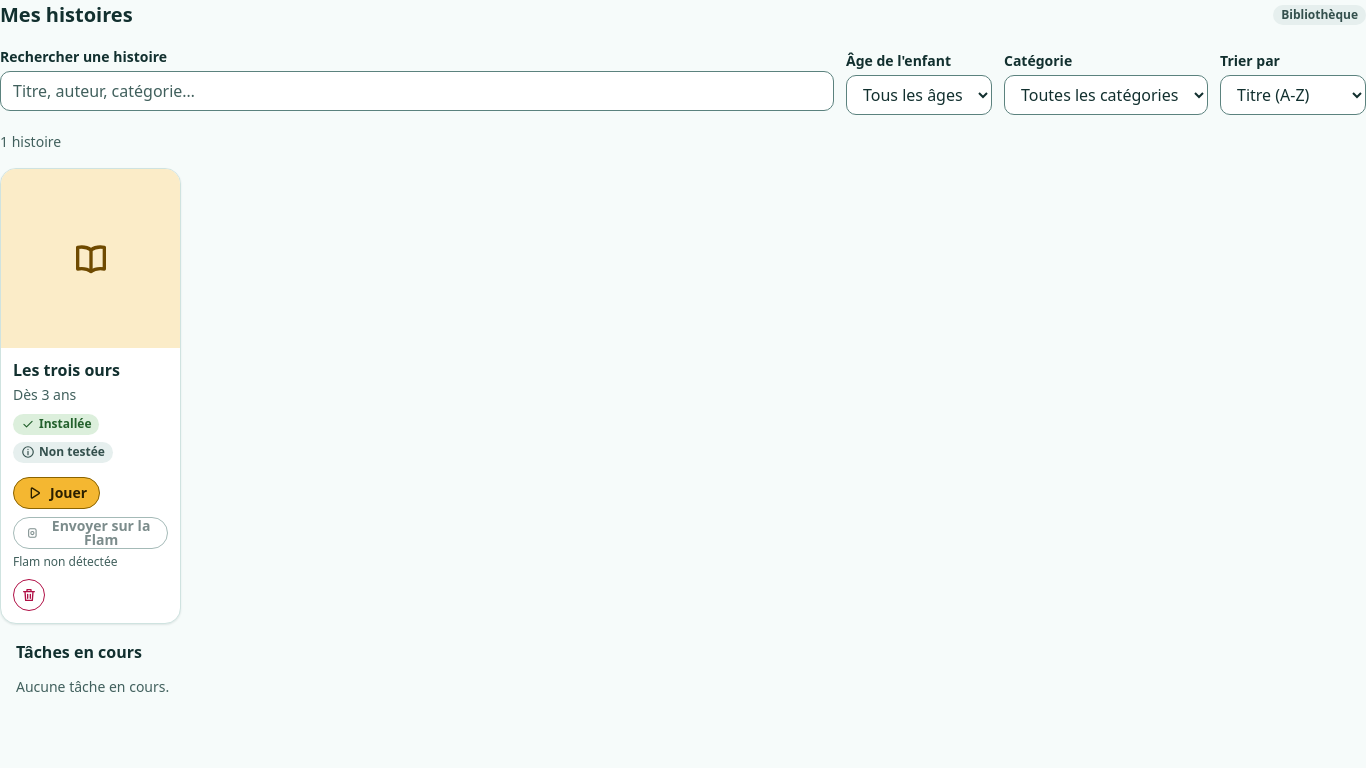
it: « Mes histoires » liste les histoires installées : jouer et supprimer
Check: the text "Installée" is shown, box [13, 414, 100, 435]
Click the button "Les trois ours" at x=66, y=370, box [13, 360, 120, 380]
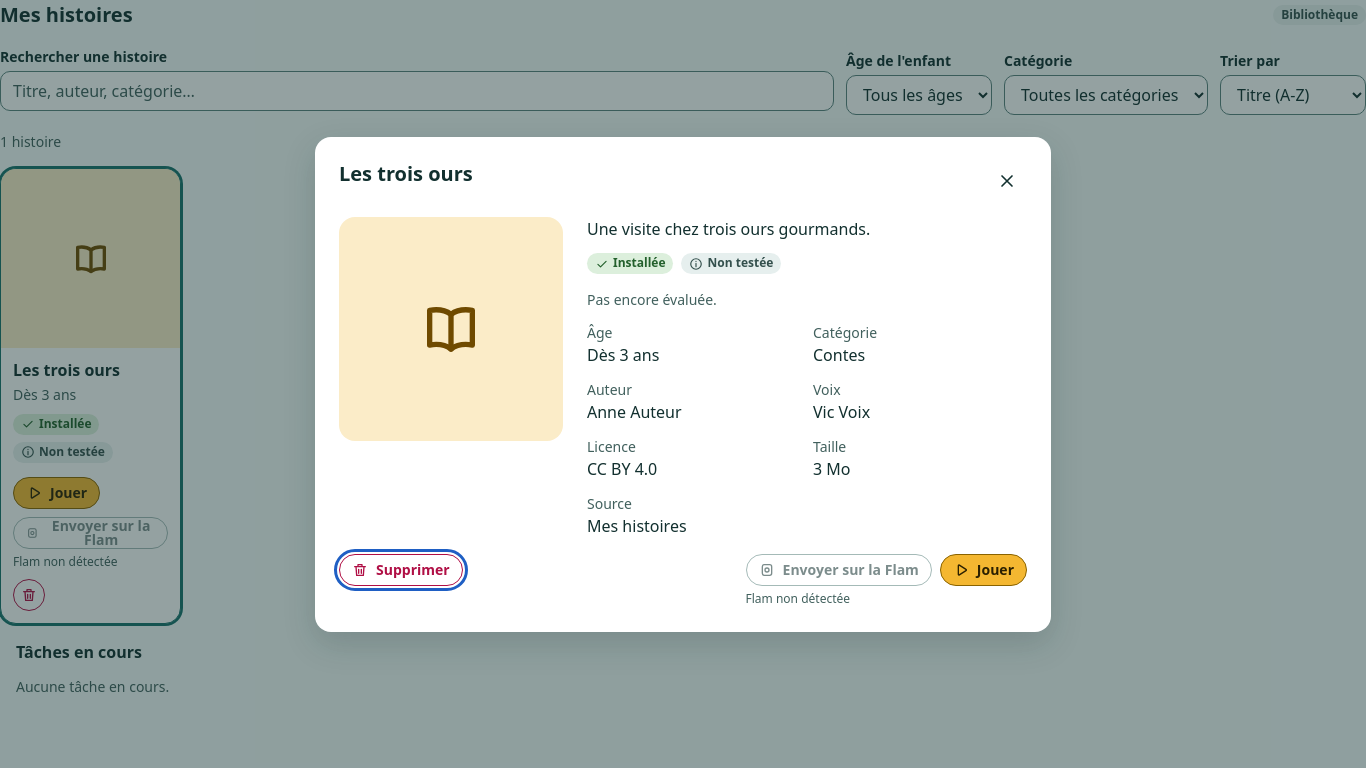
Click the button "Supprimer" at x=401, y=570, box [339, 554, 463, 586]
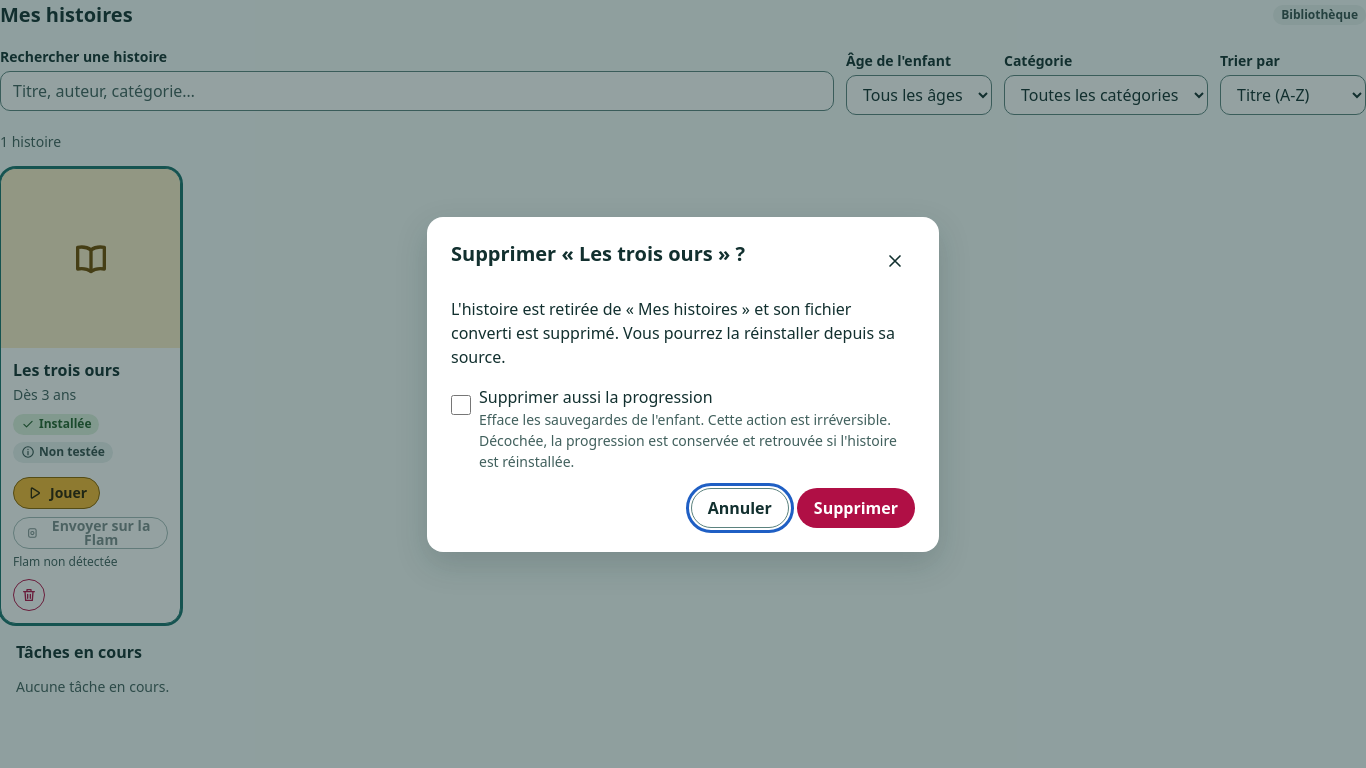
Click the button "Supprimer" at x=856, y=508, box [797, 488, 915, 528]
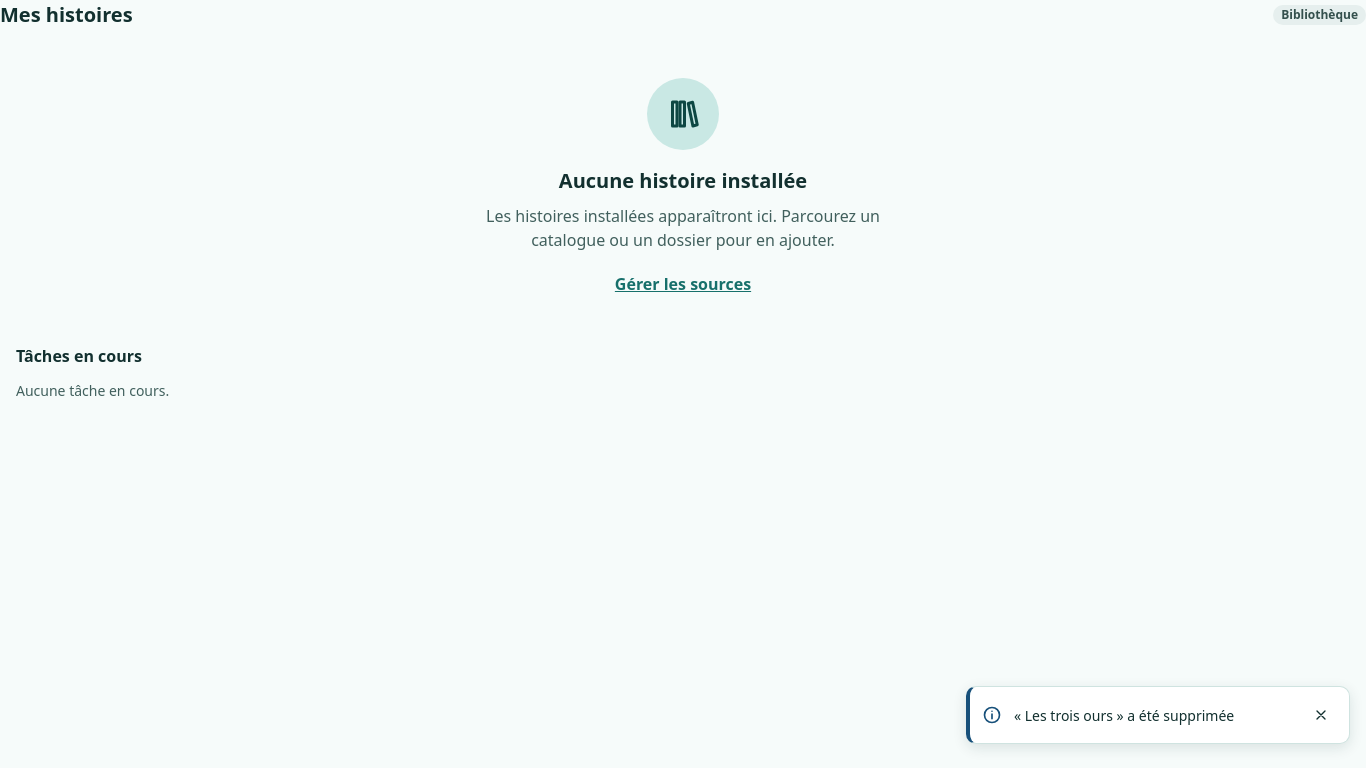
Check: the text "« Les trois ours » a été supprimée" is shown, box [1014, 706, 1234, 725]
Check: the heading "Aucune histoire installée" is shown, box [559, 166, 807, 196]
Check: the dialog is gone
